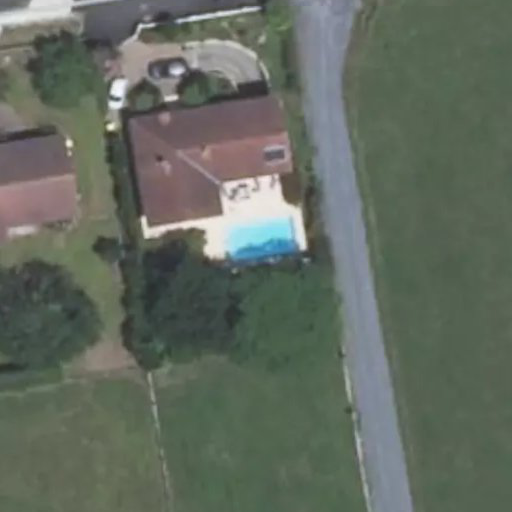pool: (218, 230, 294, 254)
